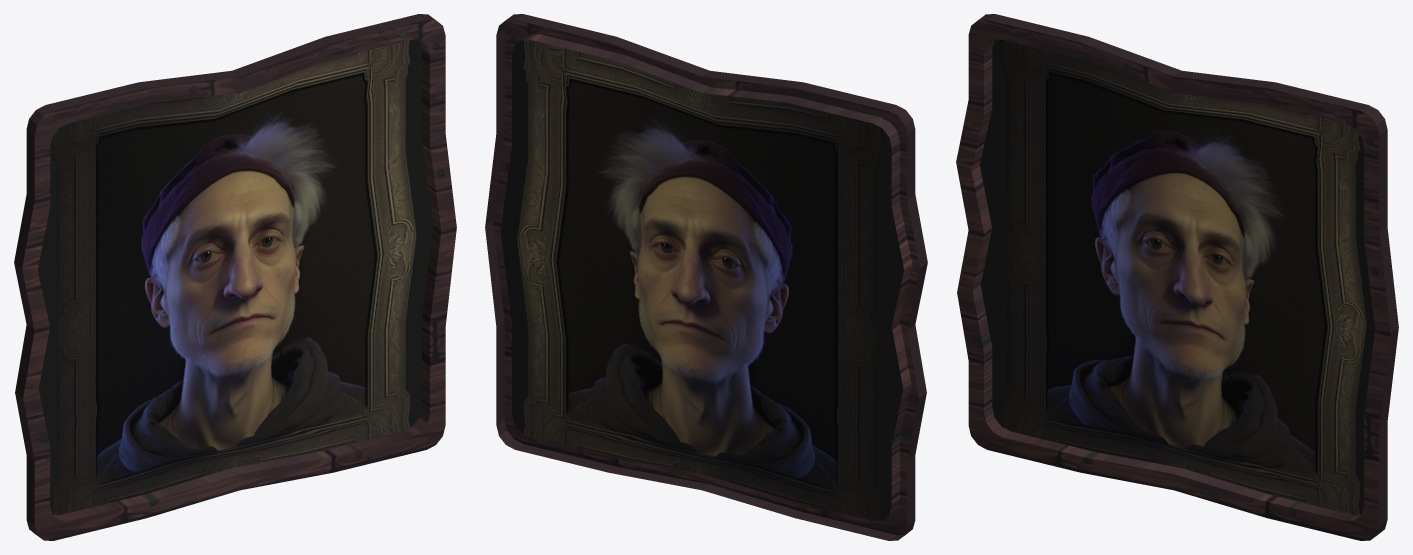
File: portrait.fbx
3 renders of one model, left to right at view 1: azimuth 30°, elevation 25°; view 2: azimuth 150°, elevation 25°; view 3: azimuth 330°, elevation 25°, orthographic.
Visible parts, largest first — view 1: portraits; view 2: portraits; view 3: portraits.
Part boxes in pixels (box(x1,y1,x2,y2)): portraits: box(14, 14, 456, 540); portraits: box(485, 14, 927, 540); portraits: box(956, 14, 1398, 540).
Bounding box in the file's own units: 6.36 × 0.2047 × 6.02.
Materials: 2 (2 with a texture image).
